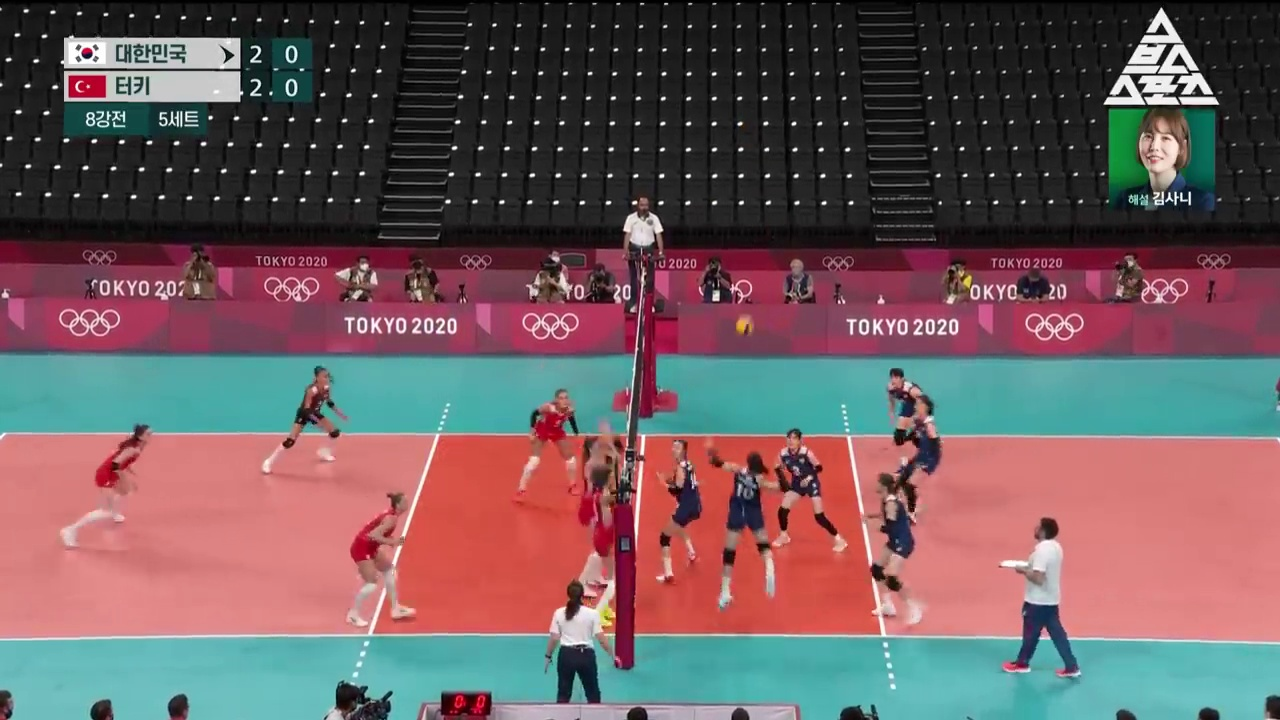ball: (737, 317, 754, 336)
player: (706, 437, 790, 608), (862, 473, 924, 625), (772, 429, 848, 552), (656, 440, 702, 583), (892, 396, 941, 522), (888, 368, 932, 473)
player 1: (60, 424, 153, 546), (346, 493, 416, 626), (263, 366, 347, 473), (513, 390, 582, 500), (579, 419, 611, 597), (591, 464, 621, 626)
referee: (544, 581, 615, 703), (623, 196, 664, 313)
